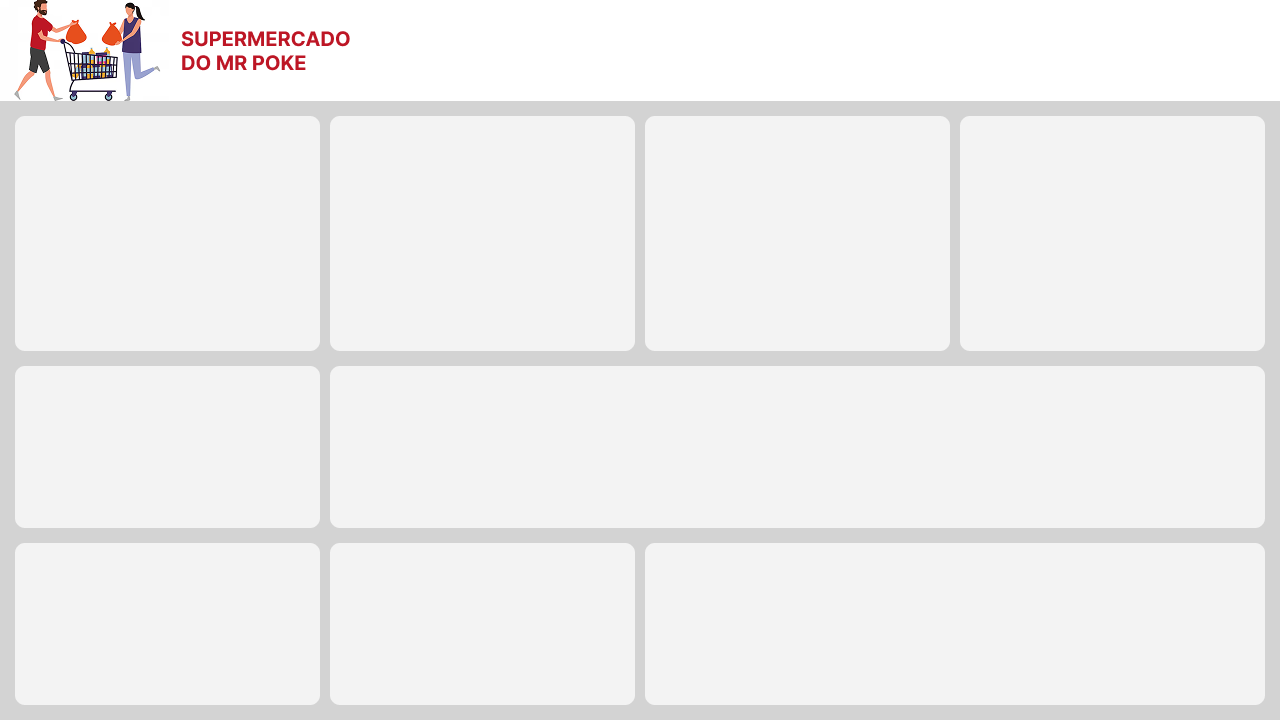

The dashboard page shown, as its layout file describes it:
{"tool":"powerbi","page":{"name":"Página 1","canvas":[1280,720],"ordinal":0},"visuals":[{"type":"pivotTable","fields":{"Rows":["Dim_Loja.Nome_Loja"],"Values":["Fato_Vendas.Total de Vendas","Fato_Vendas.Total de Unidades Vendidas","Medidas.Media de Unidades Vendidas","Tabela.Total Desconto","Fato_Vendas.Ticket Medio","Fato_Vendas.Rank Produtos Mais Vendidos"]},"box":[328.2,366.5,937.7,161.8],"z":0},{"type":"pivotTable","fields":{"Rows":["Dim_Loja.Cidade"],"Values":["Fato_Vendas.Total de Unidades Vendidas","Fato_Vendas.Media de Vendas","Fato_Vendas.% De Vendas Por Cidade","Medidas.Rank Unidades Vendidos Cidade"]},"box":[645.5,543.9,620.5,159.4],"z":1000},{"type":"columnChart","title":"Ticket Médio Por Loja","fields":{"Category":["Dim_Loja.Nome_Loja"],"Y":["Fato_Vendas.Ticket Medio"]},"box":[12.5,366.5,307.9,161.8],"z":2000},{"type":"pivotTable","fields":{"Values":["Fato_Vendas.% Por Tipo de Clinte","Fato_Vendas.Rank De Tipo Clientes"],"Rows":["Dim_Cliente.Tipo_Cliente"]},"box":[328.2,543.9,311.8,159.4],"z":3000},{"type":"donutChart","title":"Faturamento por Tamanho de Loja","fields":{"Category":["Dim_Loja.Tamanho_Loja"],"Y":["Fato_Vendas.Faturamento Total"]},"box":[12.5,114.9,307.9,237.6],"z":4000},{"type":"barChart","title":"Faturamento Por Categoria","fields":{"Category":["Dim_Produto.Categoria"],"Y":["Fato_Vendas.Faturamento Total"]},"box":[645.5,114.9,307.1,237.6],"z":5000},{"type":"barChart","title":"Volume de Vendas Por Estado","fields":{"Category":["Dim_Loja.Cidade"],"Y":["Fato_Vendas.Total de Unidades Vendidas"]},"box":[959.6,114.9,306.3,237.6],"z":6000},{"type":"clusteredBarChart","title":"Produtos Mais Vendidos","fields":{"Category":["Dim_Produto.Nome_Produto"],"Y":["Fato_Vendas.Total de Unidades Vendidas"]},"box":[328.2,114.9,306.3,237.6],"z":7000},{"type":"pivotTable","fields":{"Values":["Fato_Vendas.Faturamento Total","Fato_Vendas.Rank De Produto Por Faturamento"],"Rows":["Dim_Produto.Nome_Produto"]},"box":[12.5,543.9,307.9,159.4],"z":9000},{"type":"actionButton","box":[1157.3,28.9,108.6,50],"z":9001},{"type":"slicer","fields":{"Values":["D_Calendario.Ano"]},"box":[380.6,17.1,235,61.8],"z":9002}]}

Visuals, with their boxes in screenshot pixels (x1, y1, x2, y2), scaled from the page's 1280x720 canvas onto the 1280x720 screenshot:
pivotTable - Dim_Loja.Nome_Loja x Fato_Vendas.Total de Vendas: pyautogui.locateOnScreen(328, 366, 1266, 528)
pivotTable - Dim_Loja.Cidade x Fato_Vendas.Total de Unidades Vendidas: pyautogui.locateOnScreen(646, 544, 1266, 703)
"Ticket Médio Por Loja" columnChart: pyautogui.locateOnScreen(12, 366, 320, 528)
pivotTable - Fato_Vendas.% Por Tipo de Clinte x Fato_Vendas.Rank De Tipo Clientes: pyautogui.locateOnScreen(328, 544, 640, 703)
"Faturamento por Tamanho de Loja" donutChart: pyautogui.locateOnScreen(12, 115, 320, 352)
"Faturamento Por Categoria" barChart: pyautogui.locateOnScreen(646, 115, 953, 352)
"Volume de Vendas Por Estado" barChart: pyautogui.locateOnScreen(960, 115, 1266, 352)
"Produtos Mais Vendidos" clusteredBarChart: pyautogui.locateOnScreen(328, 115, 634, 352)
pivotTable - Fato_Vendas.Faturamento Total x Fato_Vendas.Rank De Produto Por Faturamento: pyautogui.locateOnScreen(12, 544, 320, 703)
actionButton: pyautogui.locateOnScreen(1157, 29, 1266, 79)
slicer - D_Calendario.Ano: pyautogui.locateOnScreen(381, 17, 616, 79)
